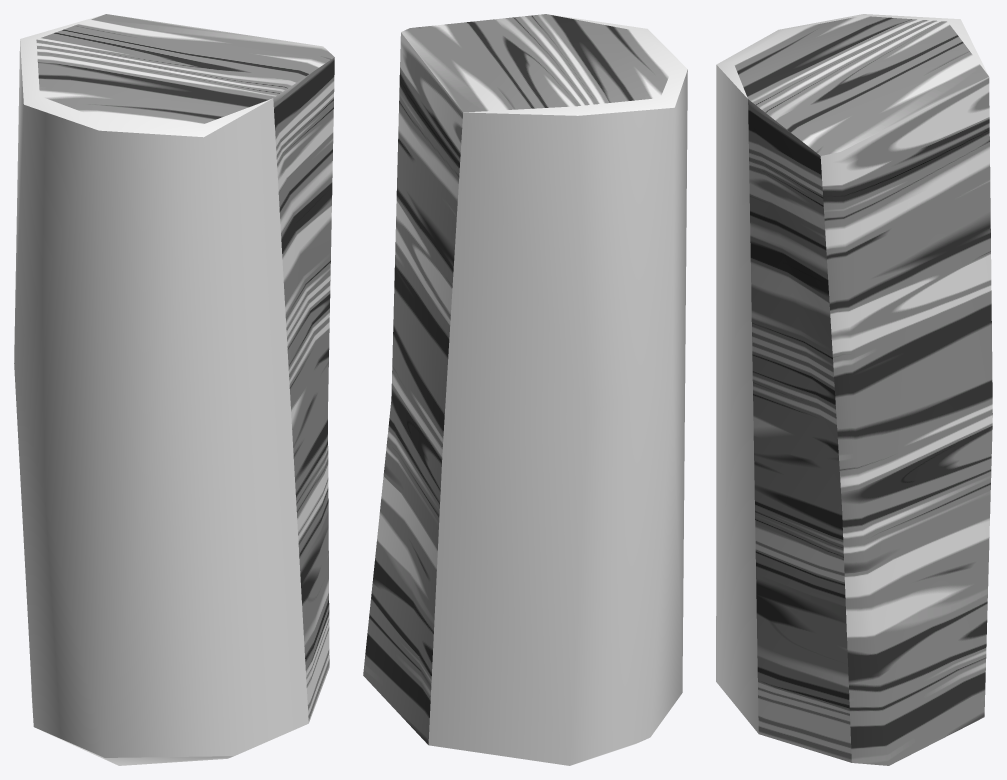
File: SM_FireWood03.obj
3 renders of one model, left to right at view 1: azimuth 30°, elevation 25°; view 2: azimuth 150°, elevation 25°; view 3: azimuth 270°, elevation 25°, orthographic. The views are drawn at different scales.
Visible parts, largest first — view 1: SM_FireWood03_Mi_FireWoodDark, SM_FireWood03_Mat_MainWS_WoodRotated_Dark_Inst; view 2: SM_FireWood03_Mi_FireWoodDark, SM_FireWood03_Mat_MainWS_WoodRotated_Dark_Inst; view 3: SM_FireWood03_Mat_MainWS_WoodRotated_Dark_Inst, SM_FireWood03_Mi_FireWoodDark.
Boxes of the visible parts, <box> form: SM_FireWood03_Mi_FireWoodDark: <box>14,14,308,765</box>; SM_FireWood03_Mat_MainWS_WoodRotated_Dark_Inst: <box>36,14,334,722</box>; SM_FireWood03_Mi_FireWoodDark: <box>428,14,687,765</box>; SM_FireWood03_Mat_MainWS_WoodRotated_Dark_Inst: <box>363,14,673,744</box>; SM_FireWood03_Mat_MainWS_WoodRotated_Dark_Inst: <box>733,16,992,765</box>; SM_FireWood03_Mi_FireWoodDark: <box>716,14,988,733</box>.
Bounding box in the file's own units: 0.1768 × 0.3687 × 0.1448.
